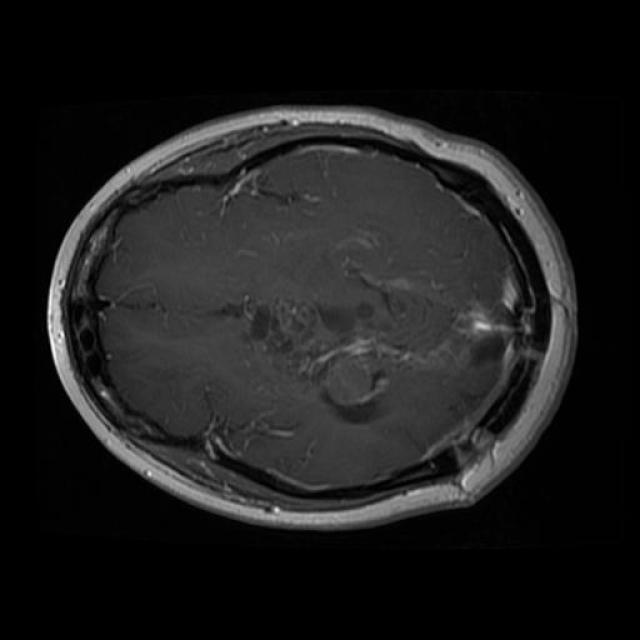Glioma: (288, 318, 416, 423)
